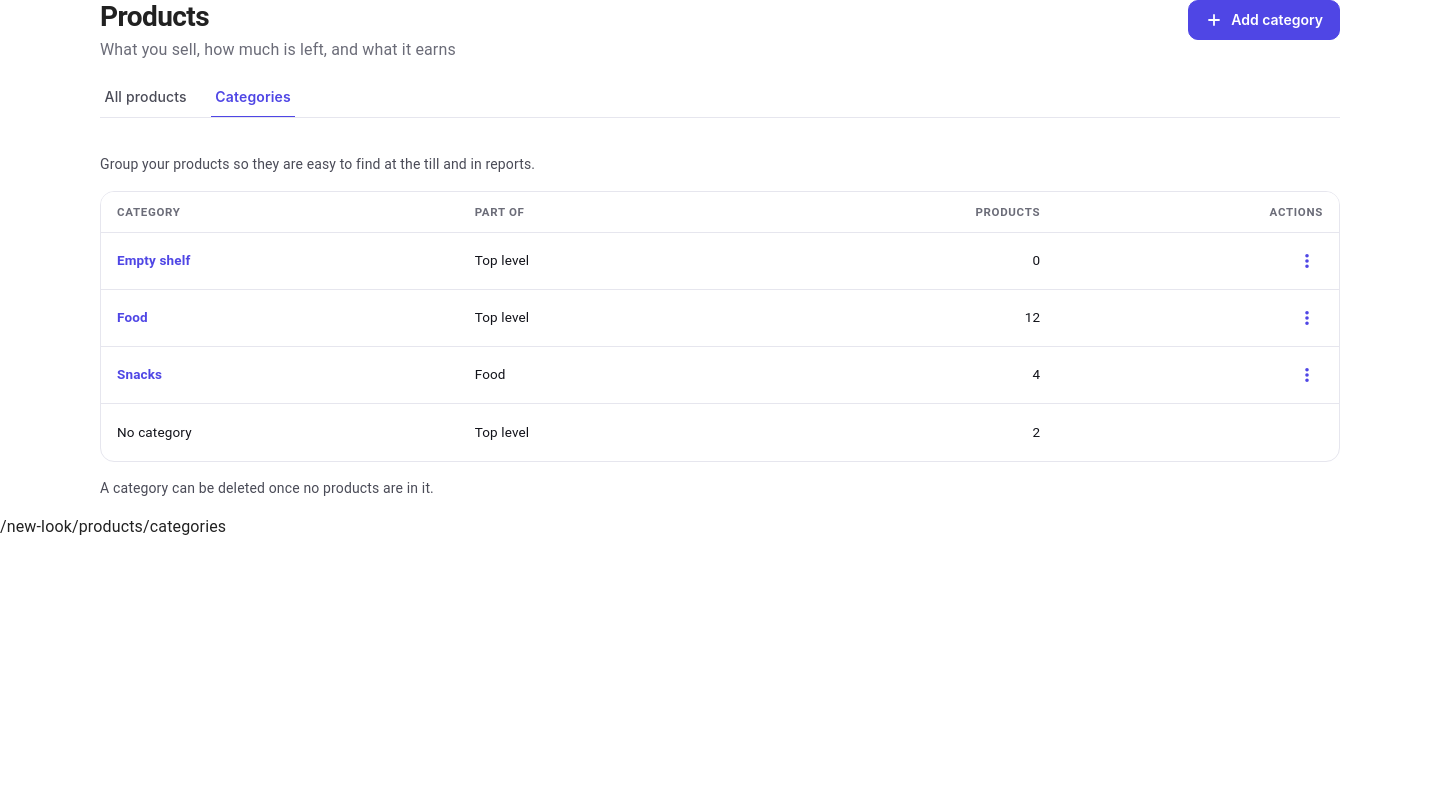
Test: adding a category › Escape closes the dialog without adding anything
Step 1. Click the button "Add category" → (1264, 20), box top-left (1188, 0), bottom-right (1340, 40)
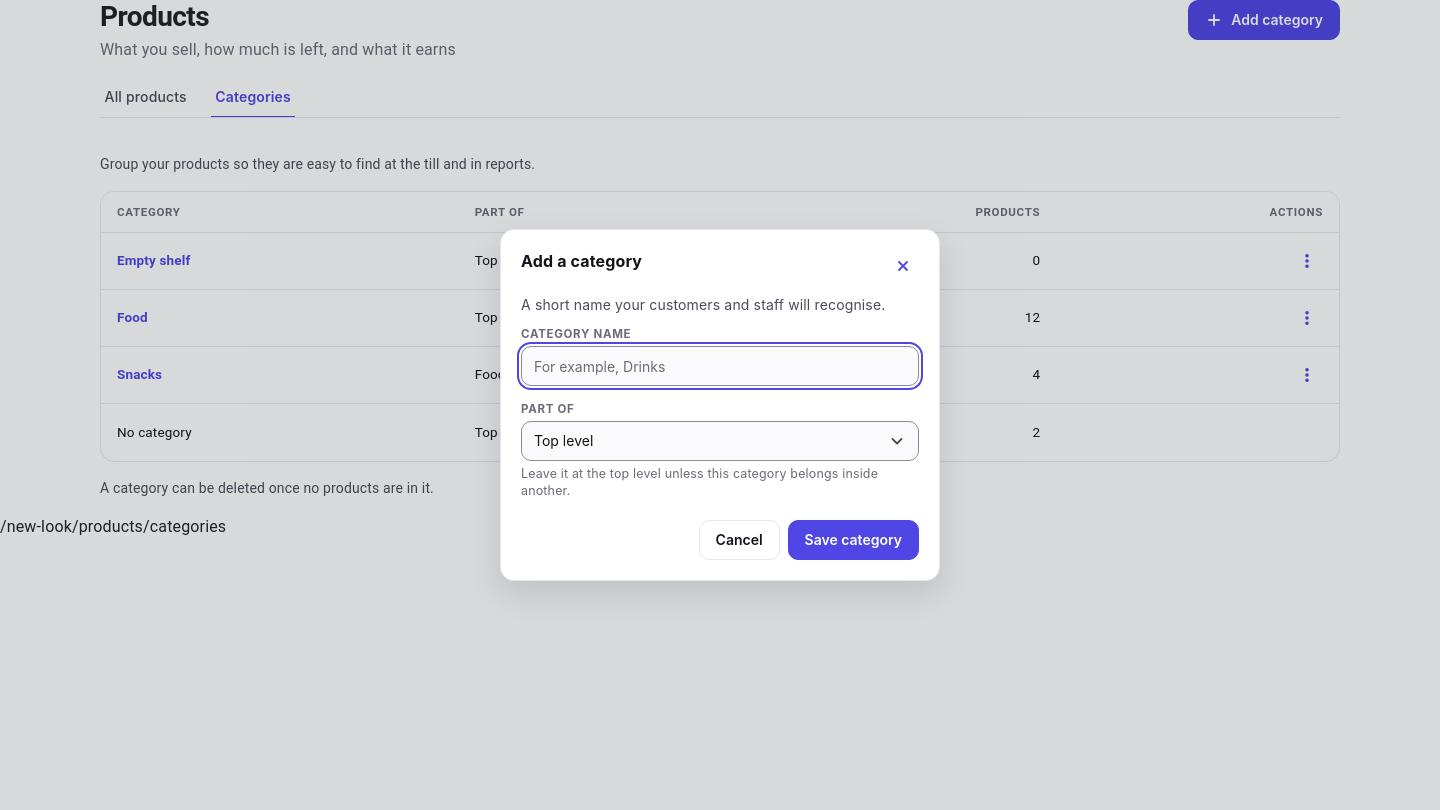
Expected: the dialog is shown, top-left (500, 229), bottom-right (940, 581)
Step 2. Press Esc
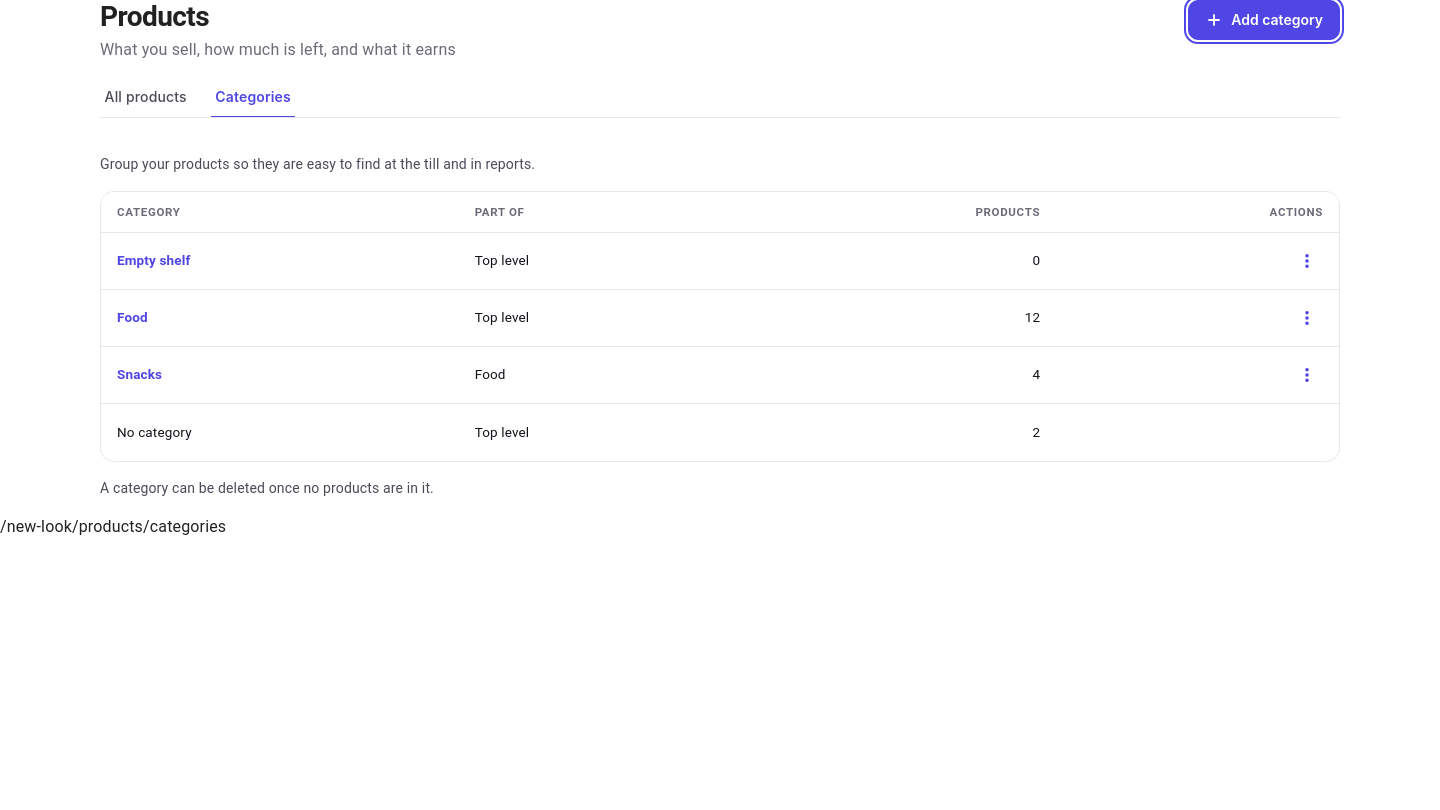
Expected: the dialog is gone
